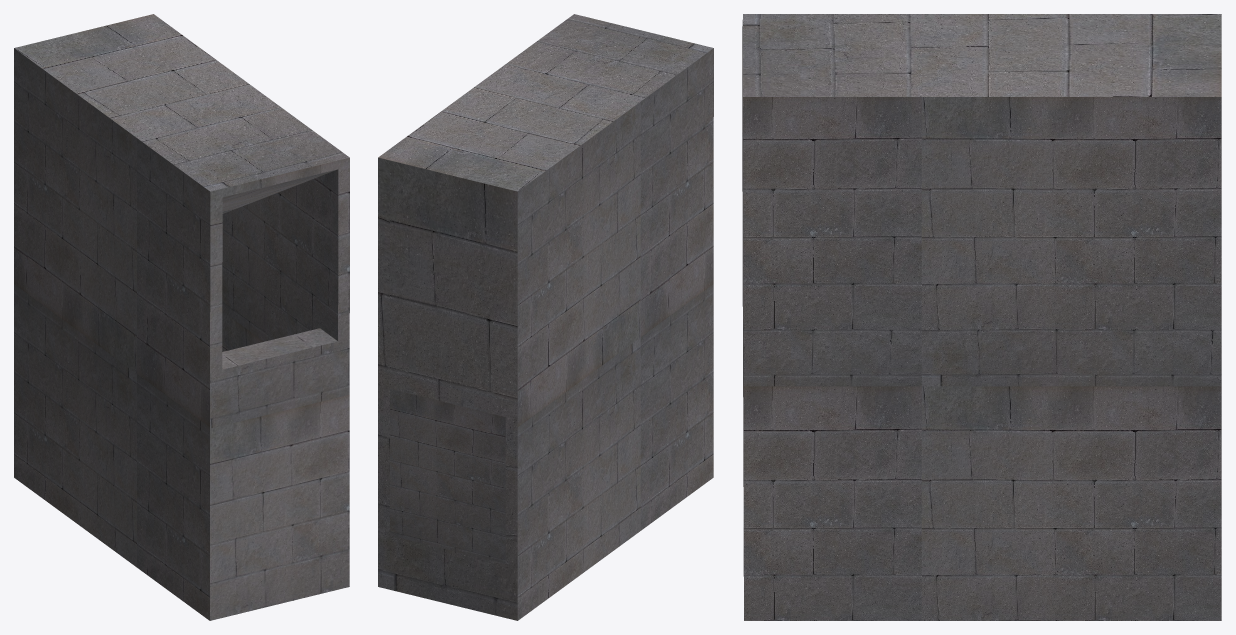
File: StairsDown.glb
The picture shows the model from 3 angles, left to right: view 1: azimuth 30°, elevation 25°; view 2: azimuth 150°, elevation 25°; view 3: azimuth 270°, elevation 25°; orthographic projection. The views are drawn at different scales.
Visible parts, largest first — view 1: StairsDown; view 2: StairsDown; view 3: StairsDown.
Part boxes in pixels (x1,y1,x2,y2): StairsDown: (14,14,349,620); StairsDown: (378,14,713,620); StairsDown: (742,14,1221,620).
Bounding box in the file's own units: 2 × 5.88 × 4.88.
1 material, 1 textured.
